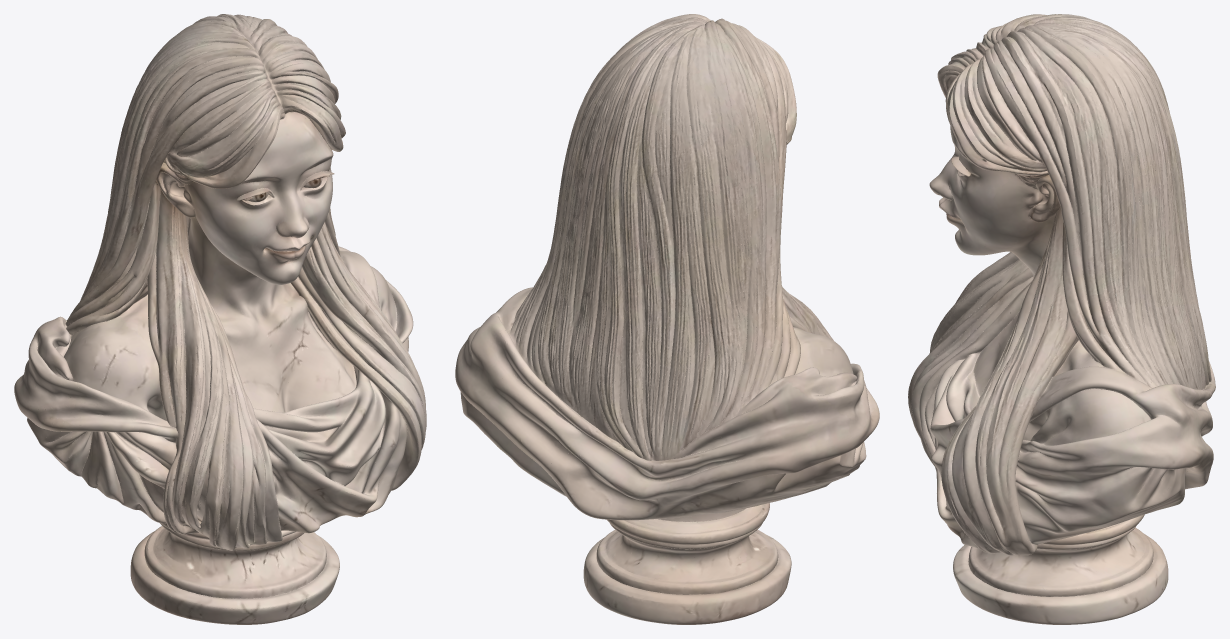
3 views of the same model, side by side, from view 1: azimuth 30°, elevation 25°; view 2: azimuth 150°, elevation 25°; view 3: azimuth 270°, elevation 25° (orthographic).
Visible parts, largest first — view 1: model; view 2: model; view 3: model.
Boxes of the visible parts, x1,y1,x2,y2 form: model: (14,14,426,624); model: (455,14,879,624); model: (908,14,1215,624).
Bounding box in the file's own units: 1.36 × 1.9 × 0.9393.
Materials: 1 (1 with a texture image).
